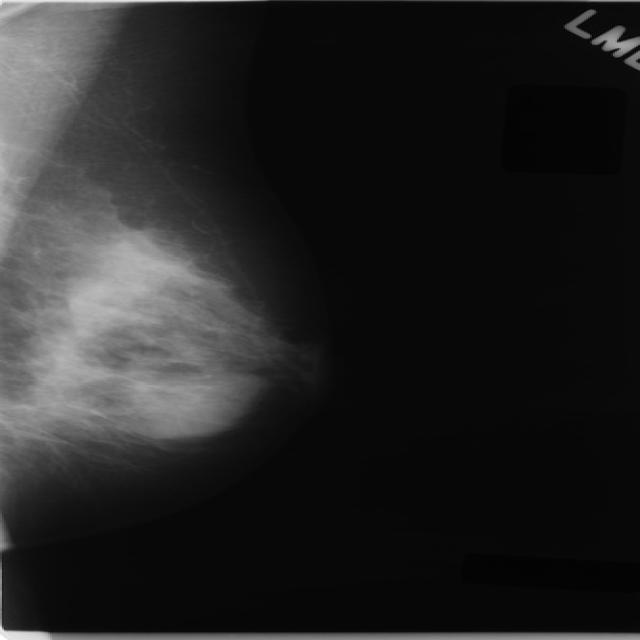tumour: (142, 370, 264, 440)
